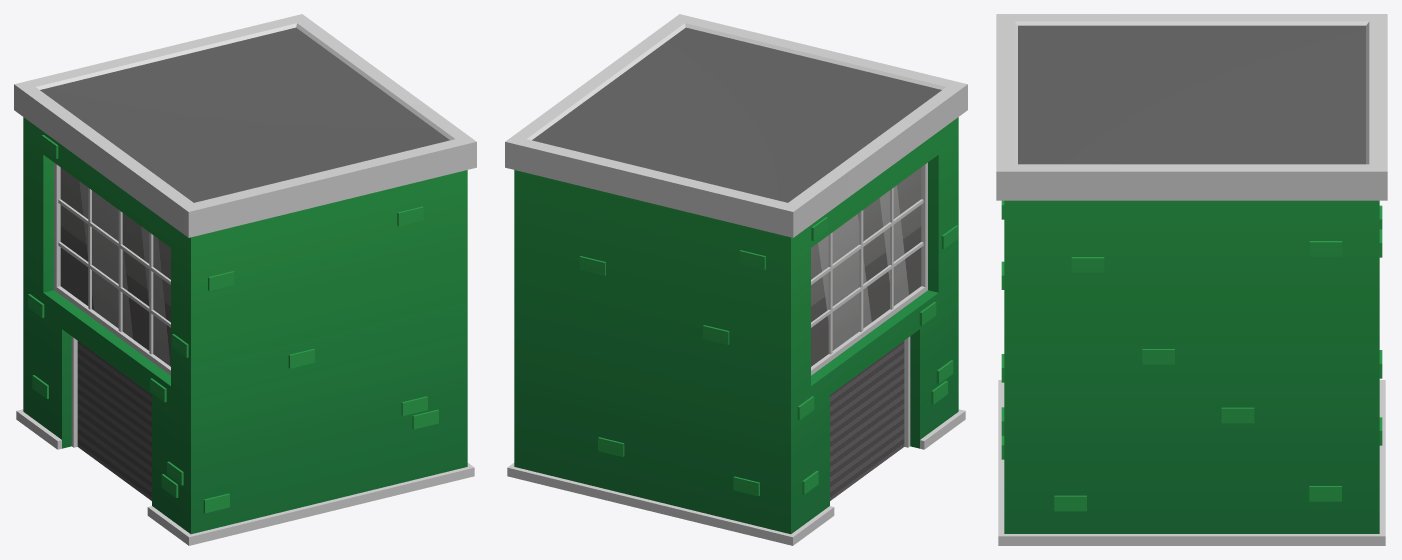
File: Building_10_G.fbx
3 views of the same model, side by side, from view 1: azimuth 30°, elevation 25°; view 2: azimuth 150°, elevation 25°; view 3: azimuth 270°, elevation 25° (orthographic). The views are drawn at different scales.
Parts seen in each view (by area): view 1: Building_10_G; view 2: Building_10_G; view 3: Building_10_G.
Boxes of the visible parts, x1,y1,x2,y2 form: Building_10_G: (14,14,476,545); Building_10_G: (505,14,967,545); Building_10_G: (996,14,1387,545).
Bounding box in the file's own units: 701 × 779 × 736.
